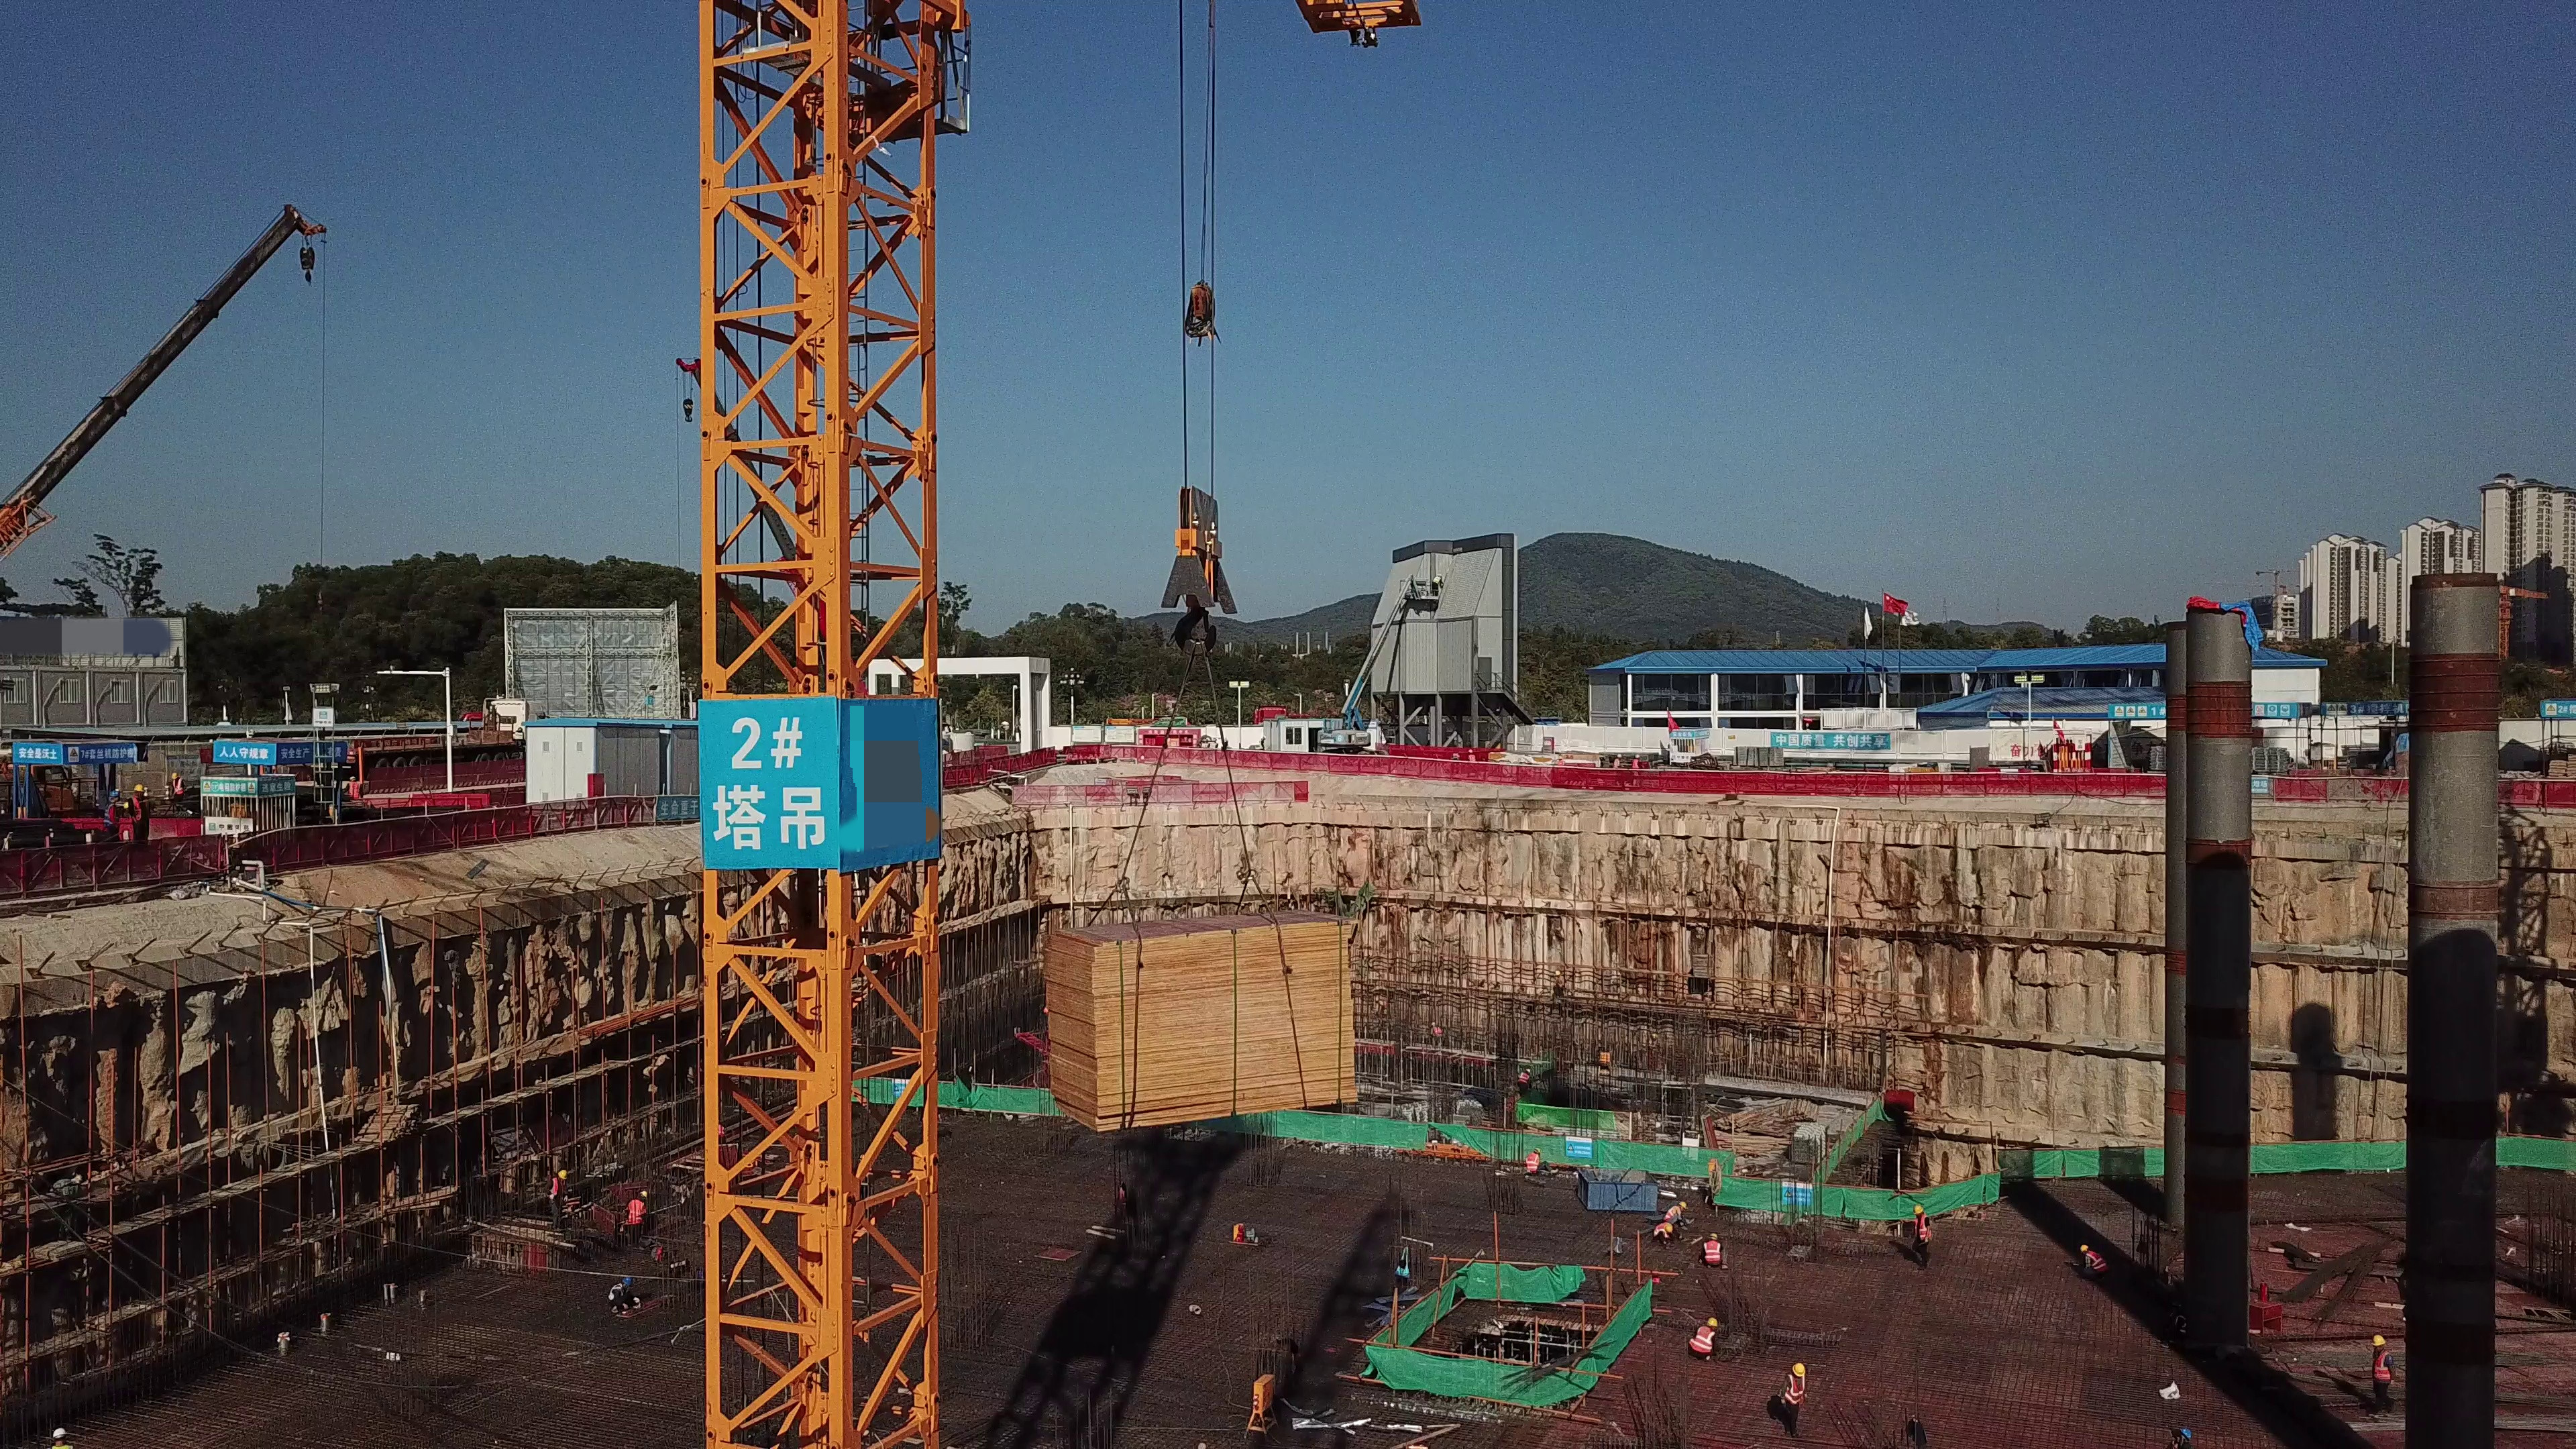helmet: (2173, 1425, 2191, 1440), (1790, 1362, 1805, 1378), (2371, 1333, 2385, 1346), (1705, 1315, 1719, 1326), (1678, 1200, 1688, 1210), (559, 1167, 568, 1179), (108, 788, 119, 798), (1913, 1205, 1924, 1214), (2079, 1244, 2089, 1252), (1666, 1226, 1673, 1234), (622, 1278, 631, 1284), (1709, 1232, 1718, 1238), (134, 785, 144, 791), (640, 1191, 647, 1197), (1554, 969, 1562, 976), (1525, 1067, 1533, 1073), (1534, 1147, 1542, 1154), (1633, 754, 1640, 759), (1617, 752, 1623, 757), (171, 771, 178, 777), (1431, 1021, 1436, 1026), (1468, 749, 1474, 752)
person: (1772, 1359, 1817, 1438), (2365, 1332, 2400, 1421), (1904, 1203, 1937, 1272), (601, 1274, 649, 1320), (622, 1185, 652, 1251), (1685, 1316, 1725, 1360), (546, 1166, 571, 1232), (127, 783, 154, 842), (2076, 1242, 2110, 1283), (1522, 1146, 1564, 1179), (1698, 1232, 1731, 1269), (1652, 1222, 1688, 1248), (103, 787, 120, 836), (1658, 1201, 1700, 1222), (168, 769, 189, 803), (1517, 1067, 1539, 1095), (45, 1427, 74, 1448), (1428, 1021, 1449, 1048), (1550, 969, 1564, 994), (1608, 750, 1623, 769), (1631, 755, 1642, 782), (1466, 746, 1477, 763), (1259, 735, 1267, 750)
vest: (2373, 1350, 2392, 1384), (129, 795, 150, 820), (1693, 1327, 1712, 1355), (1789, 1377, 1805, 1408), (1913, 1216, 1929, 1242), (2087, 1251, 2107, 1271), (628, 1201, 643, 1224), (1705, 1241, 1720, 1264), (551, 1177, 568, 1198), (1525, 1151, 1540, 1172), (104, 802, 116, 822), (172, 778, 186, 792), (610, 1284, 625, 1299), (1665, 1207, 1680, 1220), (1520, 1073, 1532, 1085), (1432, 1026, 1442, 1038), (1655, 1222, 1666, 1234), (716, 1124, 725, 1134), (1632, 759, 1640, 771), (1613, 759, 1619, 769), (1468, 755, 1474, 763)
